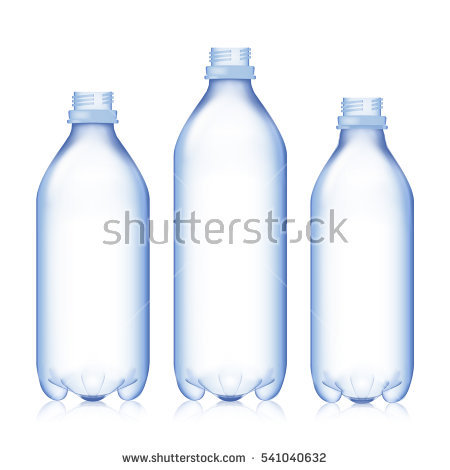emptybottle: (173, 46, 286, 402), (37, 91, 149, 400), (310, 97, 413, 404)
